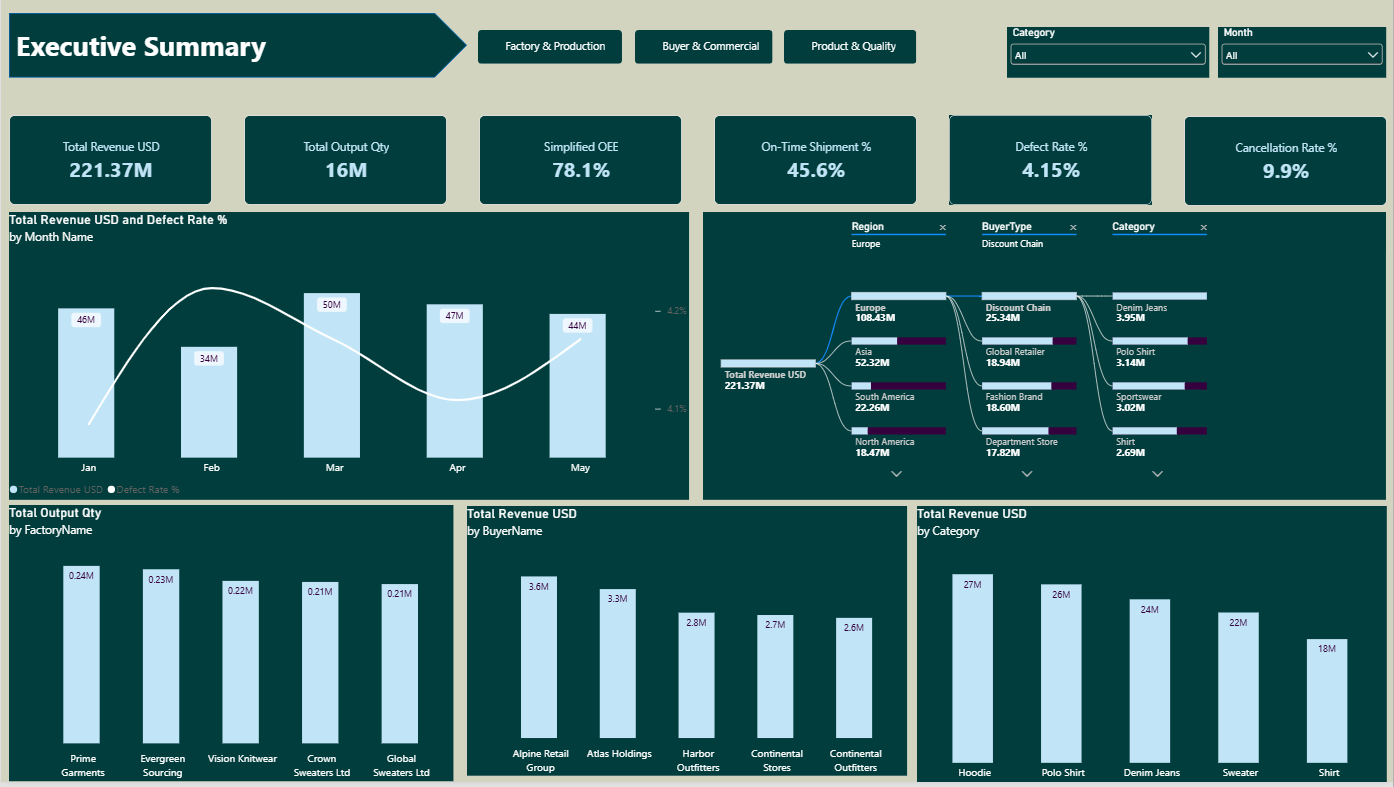

This screenshot's page, from the dashboard's own definition file:
{"tool":"powerbi","page":{"name":"Summary","canvas":[1920,1080],"ordinal":3},"visuals":[{"type":"cardVisual","fields":{"Data":["Query1.Total Revenue USD"]},"box":[10.8,160.5,280.1,124],"z":0},{"type":"shape","box":[11.7,19,631.7,89],"z":1000},{"type":"textbox","box":[20.4,37.9,605.5,51.1],"z":2000},{"type":"cardVisual","fields":{"Data":["Query1.Total Output Qty"]},"box":[335,159.7,280.1,124],"z":3000},{"type":"cardVisual","fields":{"Data":["Dashboard1.Simplified OEE"]},"box":[659.3,159.7,280.1,124],"z":4000},{"type":"cardVisual","fields":{"Data":["Dashboard2.On-Time Shipment %"]},"box":[983.6,159.7,280.1,124],"z":5000},{"type":"cardVisual","fields":{"Data":["Query1.Defect Rate %"]},"box":[1307.8,159.7,280.1,124],"z":6000},{"type":"cardVisual","fields":{"Data":["Dashboard2.Cancellation Rate %"]},"box":[1632.1,161,280.1,124],"z":7000},{"type":"lineClusteredColumnComboChart","fields":{"Category":["DimDate4.Month Name"],"Y":["Query1.Total Revenue USD"],"Y2":["Query1.Defect Rate %"]},"box":[11.7,293.3,938.1,396.8],"z":8000},{"type":"decompositionTreeVisual","fields":{"Analyze":["Query1.Total Revenue USD"],"ExplainBy":["DimBuyer2.Region","DimBuyer2.BuyerType","DimProduct3.Category"]},"box":[968.8,293.3,942.5,396.8],"z":9000},{"type":"columnChart","fields":{"Category":["DimFactory1.FactoryName"],"Y":["Query1.Total Output Qty"]},"box":[11.7,697.4,612.8,380.8],"z":10000},{"type":"columnChart","fields":{"Category":["DimBuyer2.BuyerName"],"Y":["Query1.Total Revenue USD"]},"box":[643.4,698.8,606.9,372],"z":11000},{"type":"columnChart","fields":{"Category":["DimProduct3.Category"],"Y":["Query1.Total Revenue USD"]},"box":[1263.5,698.8,647.8,382.2],"z":12000},{"type":"actionButton","box":[658.5,42.3,198.6,46.7],"z":13000},{"type":"actionButton","box":[873.9,42.3,189.8,46.7],"z":14000},{"type":"actionButton","box":[1080.5,42.3,182.5,46.7],"z":15000},{"type":"slicer","fields":{"Values":["DimDate4.Month Name"]},"box":[1679.3,37.9,232,70],"z":16000},{"type":"slicer","fields":{"Values":["DimProduct3.Category"]},"box":[1387.5,37.9,278.7,70],"z":17000}]}

Visuals, with their boxes in screenshot pixels (x1, y1, x2, y2), scaled from the page's 1920x1080 canvas onto the 1394x787 screenshot:
cardVisual - Query1.Total Revenue USD: locate(8, 117, 211, 207)
shape: locate(8, 14, 467, 79)
textbox: locate(15, 28, 454, 65)
cardVisual - Query1.Total Output Qty: locate(243, 116, 447, 207)
cardVisual - Dashboard1.Simplified OEE: locate(479, 116, 682, 207)
cardVisual - Dashboard2.On-Time Shipment %: locate(714, 116, 917, 207)
cardVisual - Query1.Defect Rate %: locate(950, 116, 1153, 207)
cardVisual - Dashboard2.Cancellation Rate %: locate(1185, 117, 1388, 208)
lineClusteredColumnComboChart - DimDate4.Month Name x Query1.Total Revenue USD: locate(8, 214, 690, 503)
decompositionTreeVisual - Query1.Total Revenue USD x DimBuyer2.Region: locate(703, 214, 1388, 503)
columnChart - DimFactory1.FactoryName x Query1.Total Output Qty: locate(8, 508, 453, 786)
columnChart - DimBuyer2.BuyerName x Query1.Total Revenue USD: locate(467, 509, 908, 780)
columnChart - DimProduct3.Category x Query1.Total Revenue USD: locate(917, 509, 1388, 786)
actionButton: locate(478, 31, 622, 65)
actionButton: locate(634, 31, 772, 65)
actionButton: locate(784, 31, 917, 65)
slicer - DimDate4.Month Name: locate(1219, 28, 1388, 79)
slicer - DimProduct3.Category: locate(1007, 28, 1210, 79)
